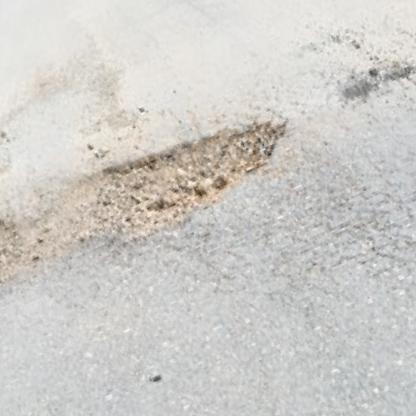pothole: (55, 97, 298, 260), (0, 196, 31, 314)
